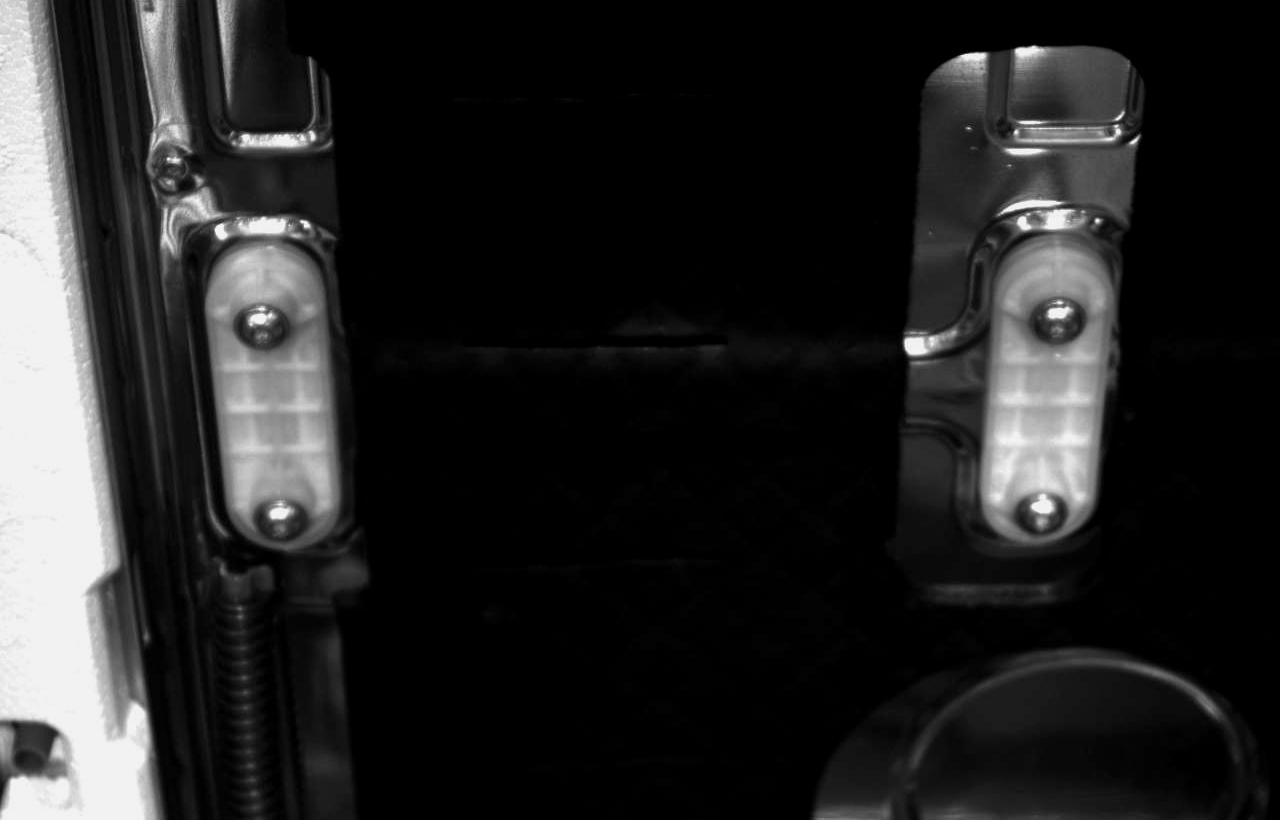vida-ok: (227, 291, 299, 358), (1026, 285, 1093, 352), (1007, 471, 1073, 539), (254, 488, 320, 547)
